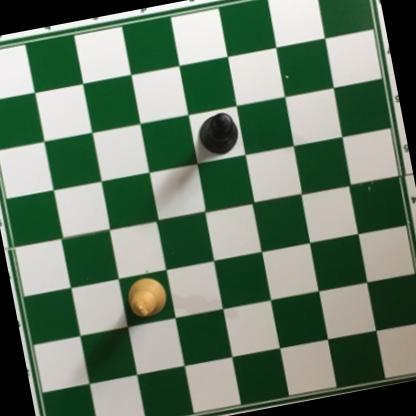black-king: (195, 109, 242, 158)
white-king: (123, 275, 170, 321)
